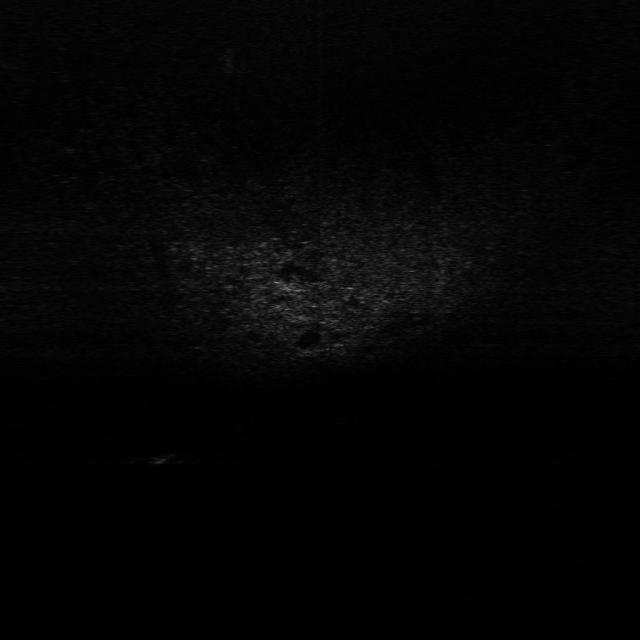cylinder: (147, 448, 178, 466)
